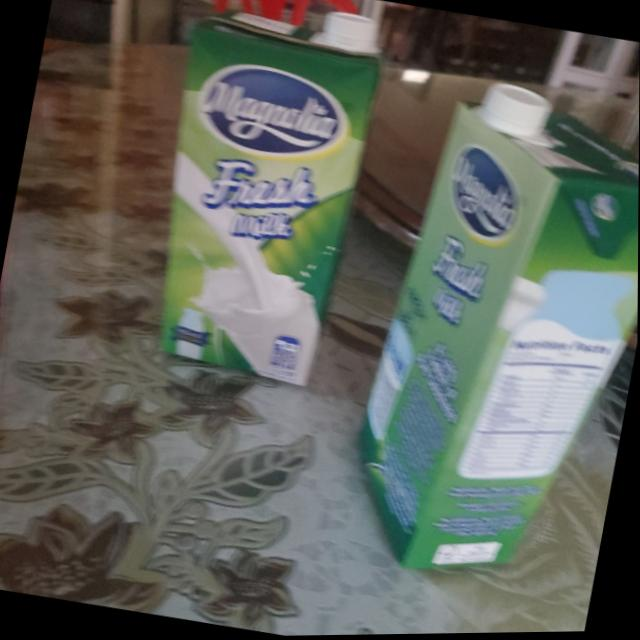milk: (334, 70, 640, 607), (132, 0, 394, 388)
